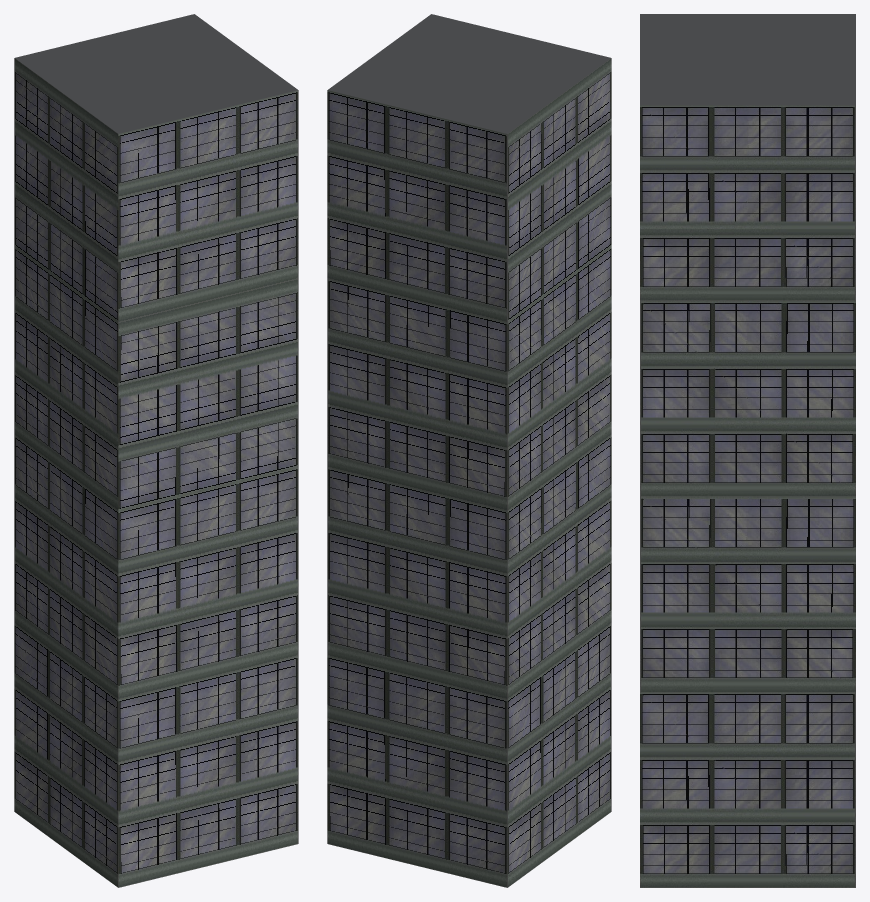
Rendered from 4story_3.glb.
3 renders of one model, left to right at view 1: azimuth 30°, elevation 25°; view 2: azimuth 150°, elevation 25°; view 3: azimuth 270°, elevation 25°, orthographic. The views are drawn at different scales.
Visible parts, largest first — view 1: skyscraper_four_3; view 2: skyscraper_four_3; view 3: skyscraper_four_3.
Boxes of the visible parts, left/top/right/bottom form: skyscraper_four_3: left=14, top=14, right=298, bottom=887; skyscraper_four_3: left=327, top=14, right=611, bottom=887; skyscraper_four_3: left=640, top=14, right=855, bottom=887.
Size of the model in its own units: 20 by 80 by 20.
Materials: 1 (1 with a texture image).
